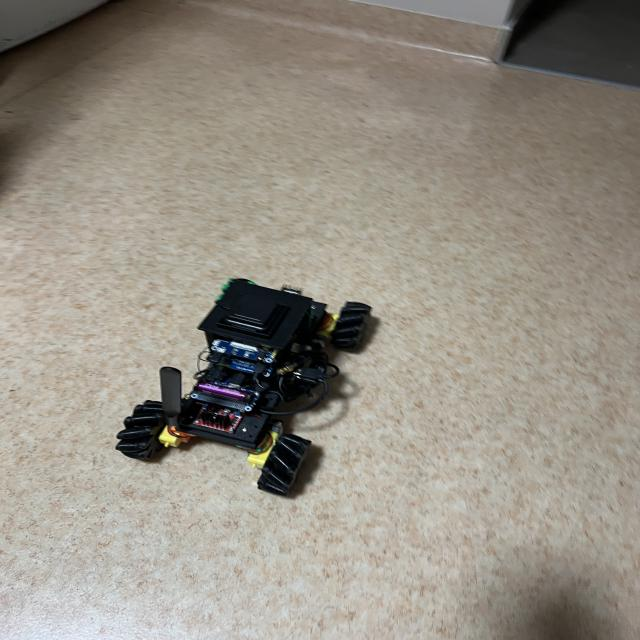robot: (116, 278, 371, 495)
